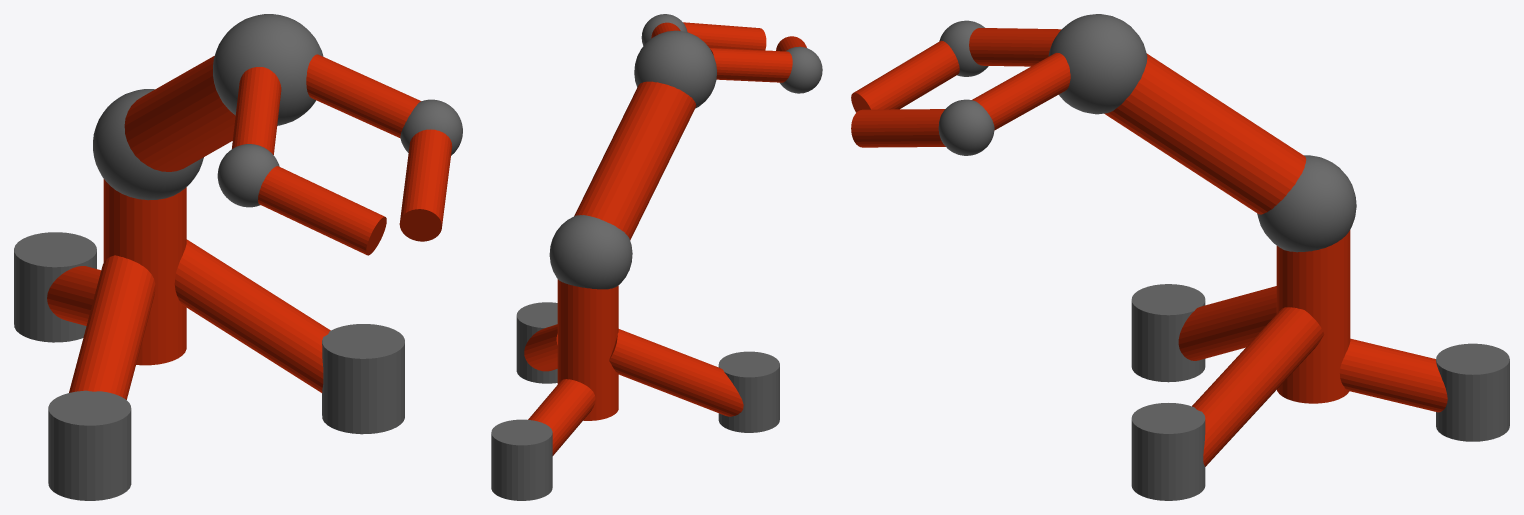
File: inserter1.obj
The picture shows the model from 3 angles, left to right: view 1: azimuth 30°, elevation 25°; view 2: azimuth 150°, elevation 25°; view 3: azimuth 270°, elevation 25°; orthographic projection. The views are drawn at different scales.
Parts seen in each view (by area): view 1: Cylinder.005, Cylinder.006_Cylinder.007, Cylinder.003, Cylinder, Cylinder.001, Cylinder.002, Sphere.001_Sphere, Cylinder.007_Cylinder.008, Sphere, Sphere.002_Sphere, Cylinder.004; view 2: Cylinder.001, Cylinder.005, Cylinder, Cylinder.006_Cylinder.007, Sphere, Cylinder.007_Cylinder.008, Sphere.001_Sphere, Cylinder.002, Cylinder.004, Cylinder.003, Sphere.002_Sphere; view 3: Cylinder.001, Cylinder.005, Cylinder.006_Cylinder.007, Cylinder, Cylinder.003, Sphere.001_Sphere, Cylinder.002, Cylinder.007_Cylinder.008, Sphere, Cylinder.004, Sphere.002_Sphere.
Part boxes in pixels (x1,y1,x2,y2): Cylinder.005: (69,239,330,399); Cylinder.006_Cylinder.007: (48,324,404,500); Cylinder.003: (258,129,452,255); Cylinder: (103,179,186,365); Cylinder.001: (124,56,235,171); Cylinder.002: (232,54,420,154); Sphere.001_Sphere: (213,14,323,125); Cylinder.007_Cylinder.008: (14,232,96,342); Sphere: (93,89,203,200); Sphere.002_Sphere: (217,99,462,207); Cylinder.004: (47,266,101,325); Cylinder.001: (574,81,696,240); Cylinder.005: (524,324,743,416); Cylinder: (557,279,618,420); Cylinder.006_Cylinder.007: (516,302,779,432); Sphere: (549,215,632,289); Cylinder.007_Cylinder.008: (491,419,552,500); Sphere.001_Sphere: (634,30,716,108); Cylinder.002: (651,22,792,82); Cylinder.004: (528,379,595,455); Cylinder.003: (683,22,806,51); Sphere.002_Sphere: (641,14,822,93); Cylinder.001: (1104,53,1306,214); Cylinder.005: (1178,286,1324,466); Cylinder.006_Cylinder.007: (1131,284,1205,500); Cylinder: (1276,230,1350,403); Cylinder.003: (851,40,959,147); Sphere.001_Sphere: (1048,14,1147,114); Cylinder.002: (969,28,1070,130); Cylinder.007_Cylinder.008: (1436,343,1509,441); Sphere: (1257,155,1356,252); Cylinder.004: (1339,338,1447,412); Sphere.002_Sphere: (938,20,994,155).
Bounding box in the file's own units: 9.61 × 12.21 × 17.83.
